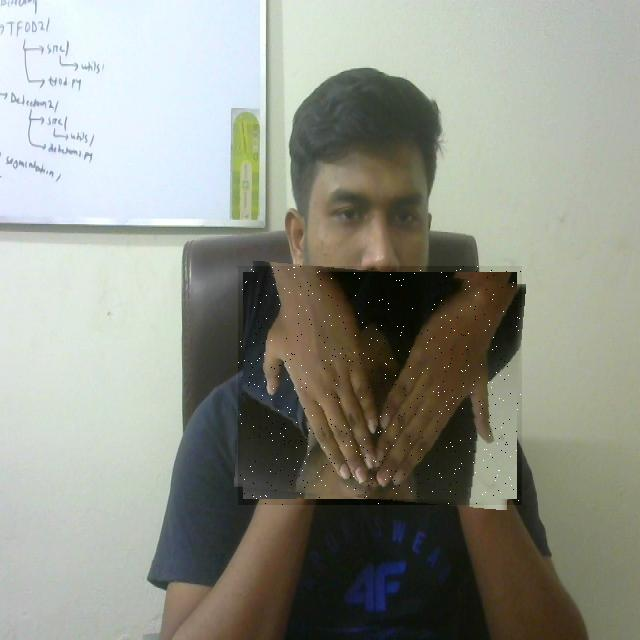Thanks: (238, 266, 522, 505)
